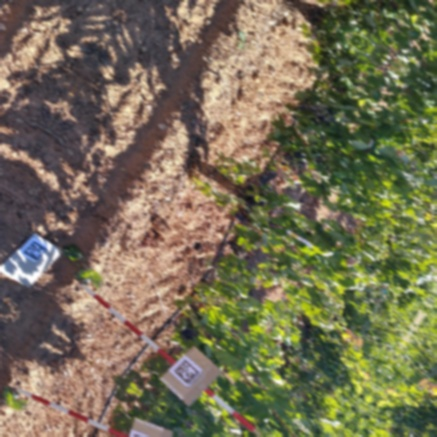QR: (172, 359, 201, 387), (22, 241, 46, 263)
